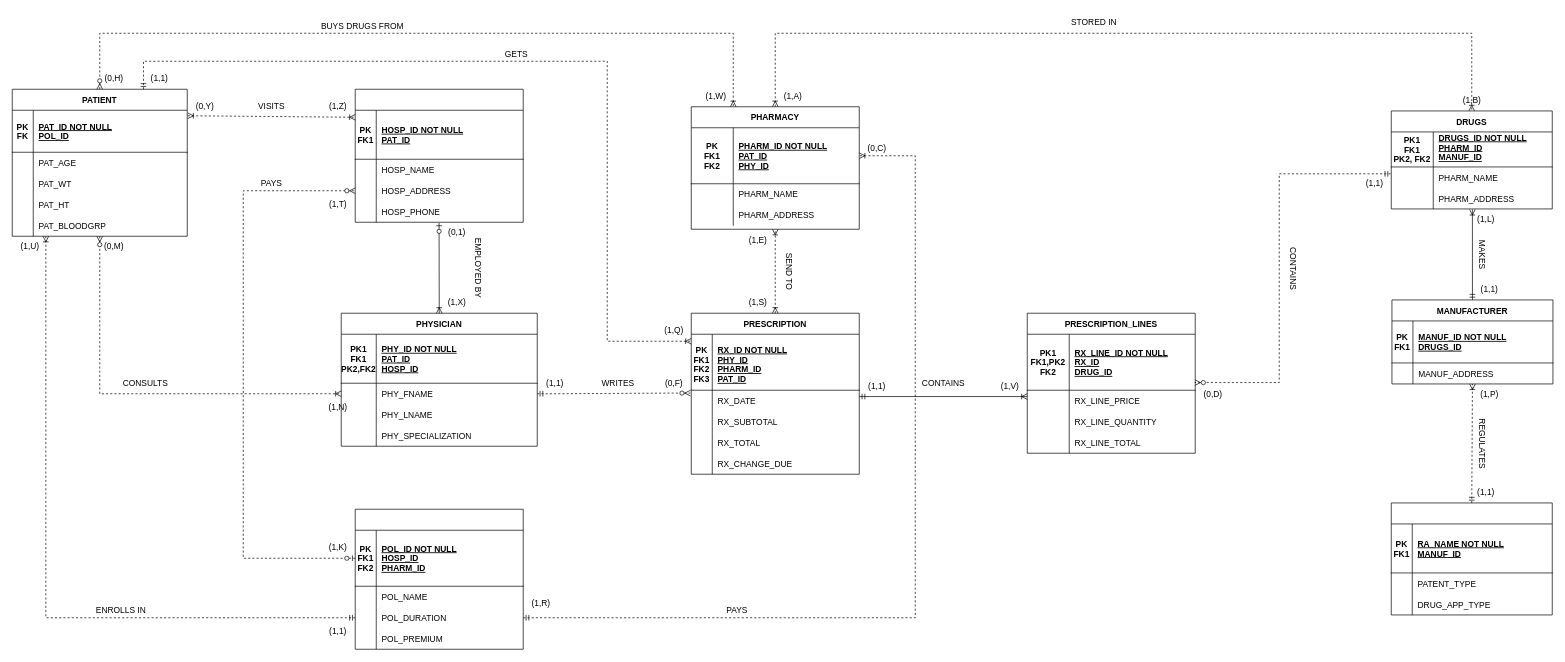
This 1565x662 diagram has some shape labels left out. Each missing label, with the box of its shape:
HOSPITAL: (355, 89, 523, 222)
INSURANCE: (355, 509, 523, 649)
REGULATORY_AUTH: (1391, 502, 1552, 615)
